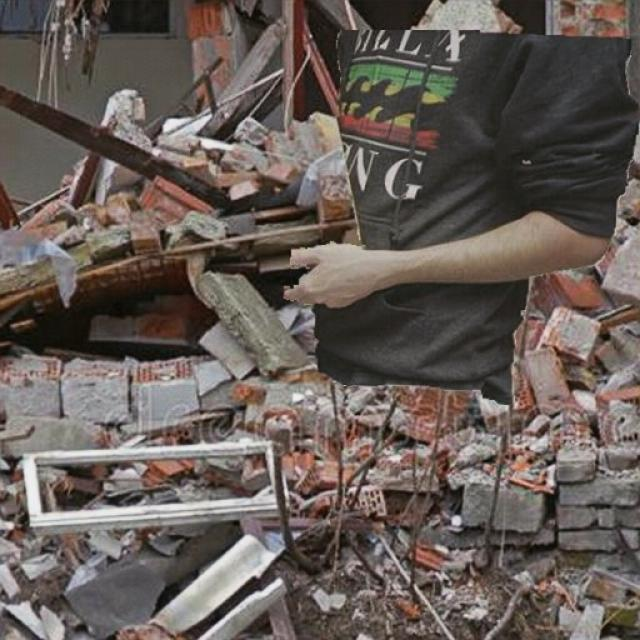Person in Rubble: (284, 30, 638, 404)
